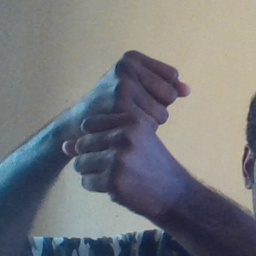G: (67, 49, 195, 198)
